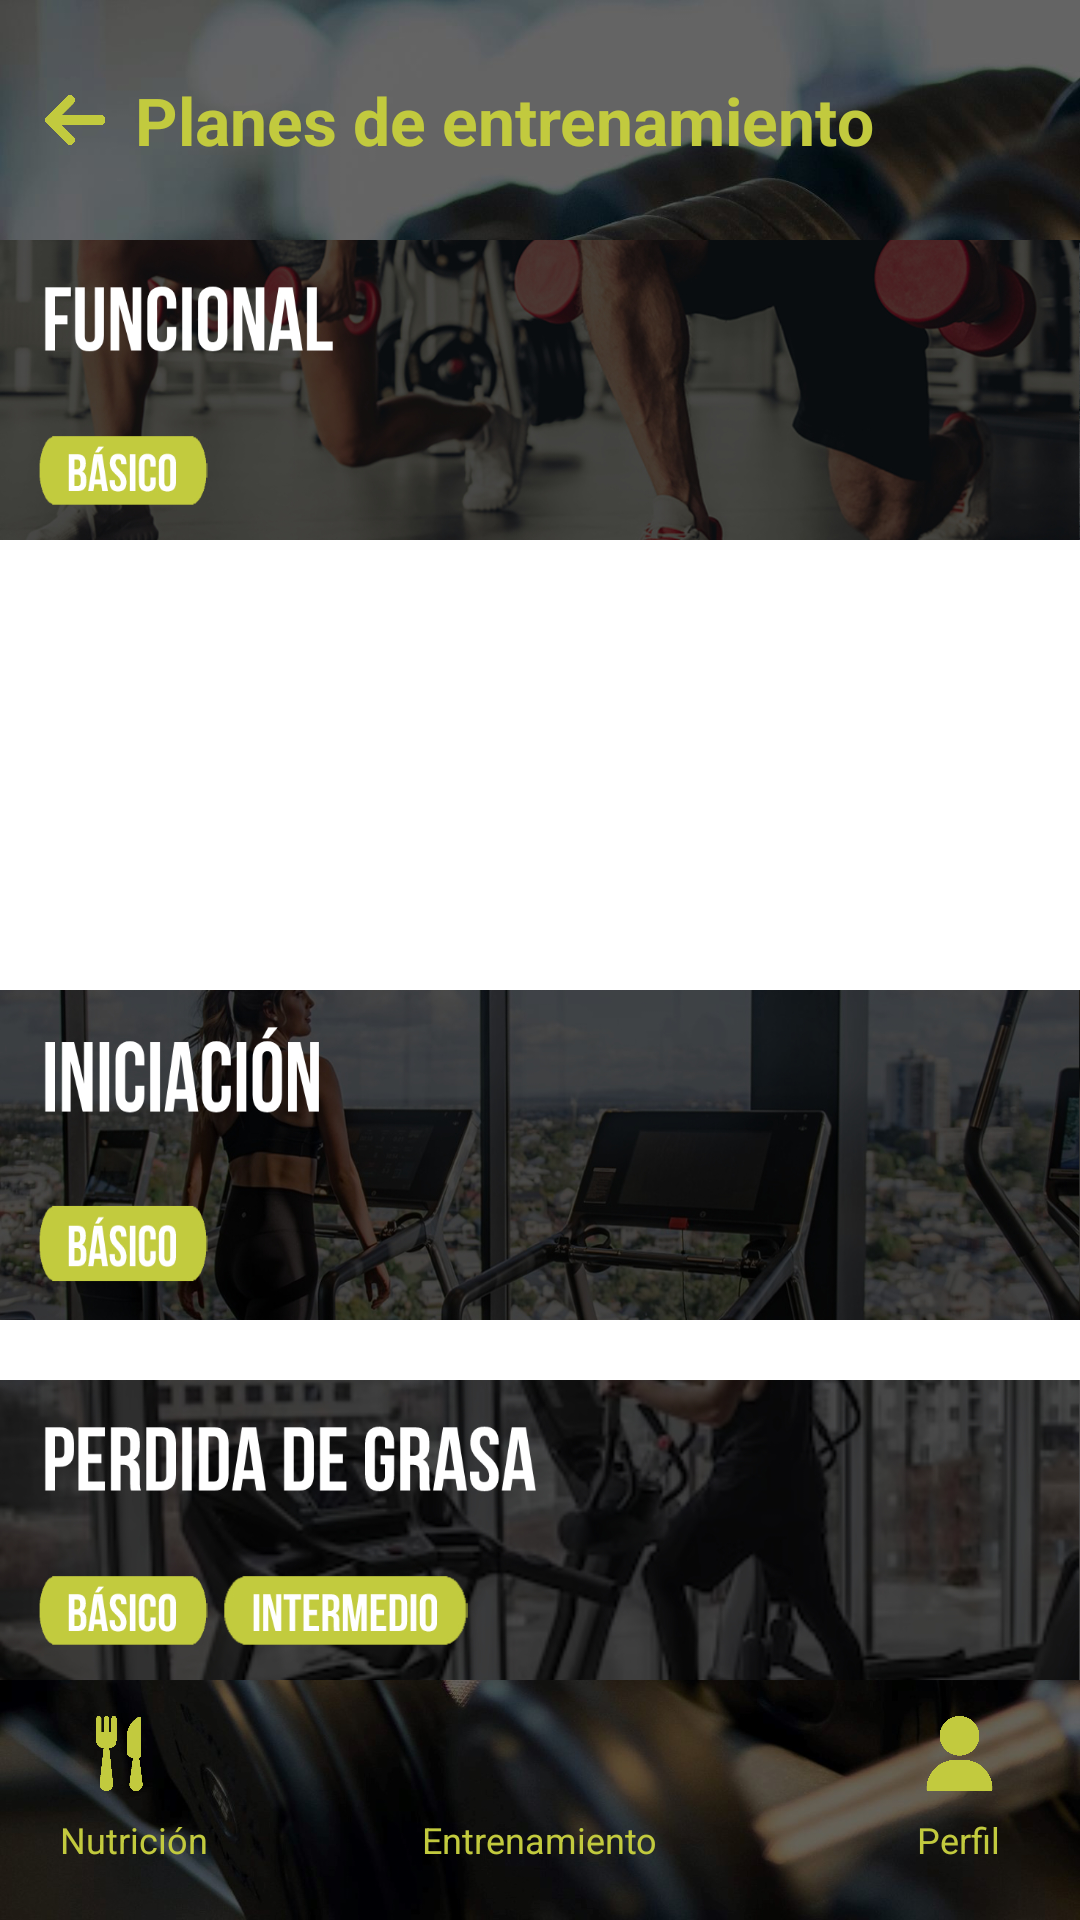

Icons on this 1080w x 1920h Android screen, each with its box as (x1, y1, x2, y2):
flechatras: (45, 95, 105, 145)
